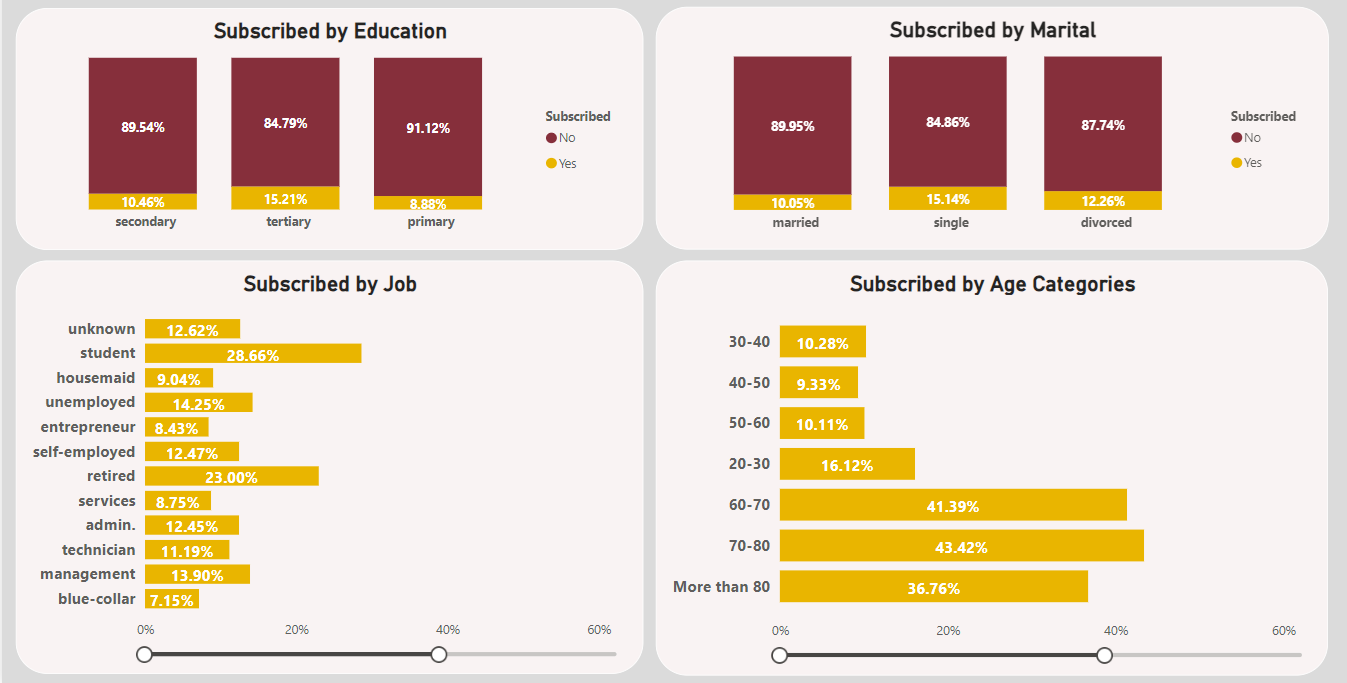

Layout of this report page (visuals, bound fields, positions):
{"tool":"powerbi","page":{"name":"Demographics","canvas":[1280,720],"ordinal":2},"visuals":[{"type":"hundredPercentStackedBarChart","title":"Subscribed by Age Categories","fields":{"Category":["Term Deposit.Age categories "],"Y":["CountNonNull(Term Deposit.subscribed)"],"Series":["Term Deposit.subscribed"]},"box":[622.4,316.6,640.3,395.1],"z":0},{"type":"hundredPercentStackedColumnChart","title":"Subscribed by Marital","fields":{"Category":["Term Deposit.marital"],"Y":["CountNonNull(Term Deposit.subscribed)"],"Series":["Term Deposit.subscribed"]},"box":[622.1,75,640.7,231.4],"z":1000},{"type":"textbox","box":[0,0,1280,67.2],"z":2000},{"type":"hundredPercentStackedColumnChart","title":"Subscribed by Education","fields":{"Category":["Term Deposit.education"],"Y":["CountNonNull(Term Deposit.subscribed)"],"Series":["Term Deposit.subscribed"]},"box":[12.5,76.2,597.5,230],"z":3000},{"type":"hundredPercentStackedBarChart","title":"Subscribed by Job","fields":{"Category":["Term Deposit.job"],"Series":["Term Deposit.subscribed"],"Y":["CountNonNull(Term Deposit.subscribed)"]},"box":[12.5,316.2,597.5,393.8],"z":4000}]}

Visuals, with their boxes on the page's 1280x720 design canvas (x1, y1, x2, y2). These are canvas units, not pixel positions in the 1347x683 screenshot, which may show the page scaled, cropped or inside an application window:
"Subscribed by Age Categories" hundredPercentStackedBarChart: detection(622, 317, 1263, 712)
"Subscribed by Marital" hundredPercentStackedColumnChart: detection(622, 75, 1263, 306)
textbox: detection(0, 0, 1280, 67)
"Subscribed by Education" hundredPercentStackedColumnChart: detection(12, 76, 610, 306)
"Subscribed by Job" hundredPercentStackedBarChart: detection(12, 316, 610, 710)
